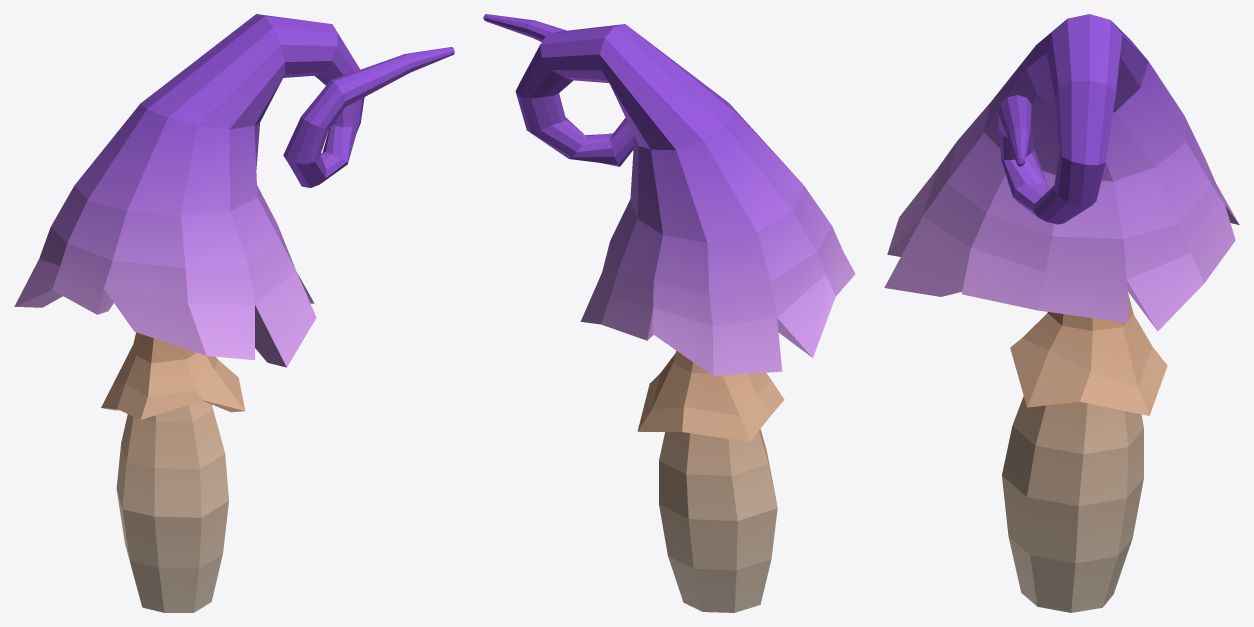
File: dm11.mushroom.sm.v2.01.glb
3 views of the same model, side by side, from view 1: azimuth 30°, elevation 25°; view 2: azimuth 150°, elevation 25°; view 3: azimuth 270°, elevation 25° (orthographic). The views are drawn at different scales.
Visible parts, largest first — view 1: PP_Mushroom_Fantasy_Purple_05.001_PP_Standard_Material_0; view 2: PP_Mushroom_Fantasy_Purple_05.001_PP_Standard_Material_0; view 3: PP_Mushroom_Fantasy_Purple_05.001_PP_Standard_Material_0.
Boxes of the visible parts, <box> form: PP_Mushroom_Fantasy_Purple_05.001_PP_Standard_Material_0: <box>14,14,454,612</box>; PP_Mushroom_Fantasy_Purple_05.001_PP_Standard_Material_0: <box>483,14,855,612</box>; PP_Mushroom_Fantasy_Purple_05.001_PP_Standard_Material_0: <box>884,14,1239,612</box>.
Size of the model in its own units: 0.2172 by 0.298 by 0.1511.
Materials: 1 (1 with a texture image).
